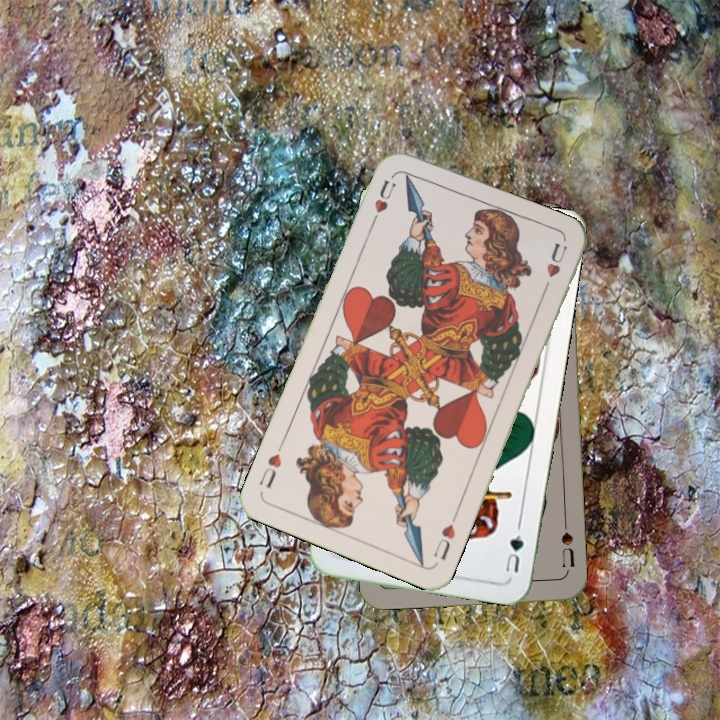GU: (501, 530, 526, 575)
HU: (430, 509, 460, 563), (367, 176, 398, 227)
SU: (557, 516, 577, 570)
